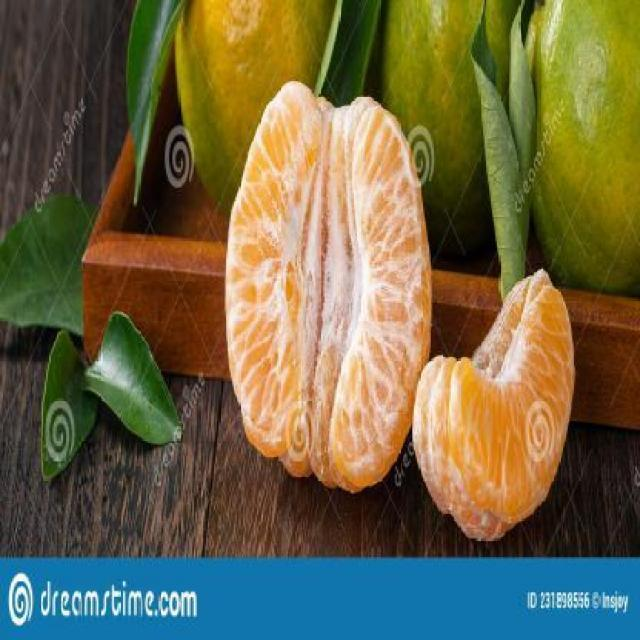Jeruk Sudah Matang: (170, 0, 344, 231), (514, 0, 638, 308), (357, 0, 514, 226)
